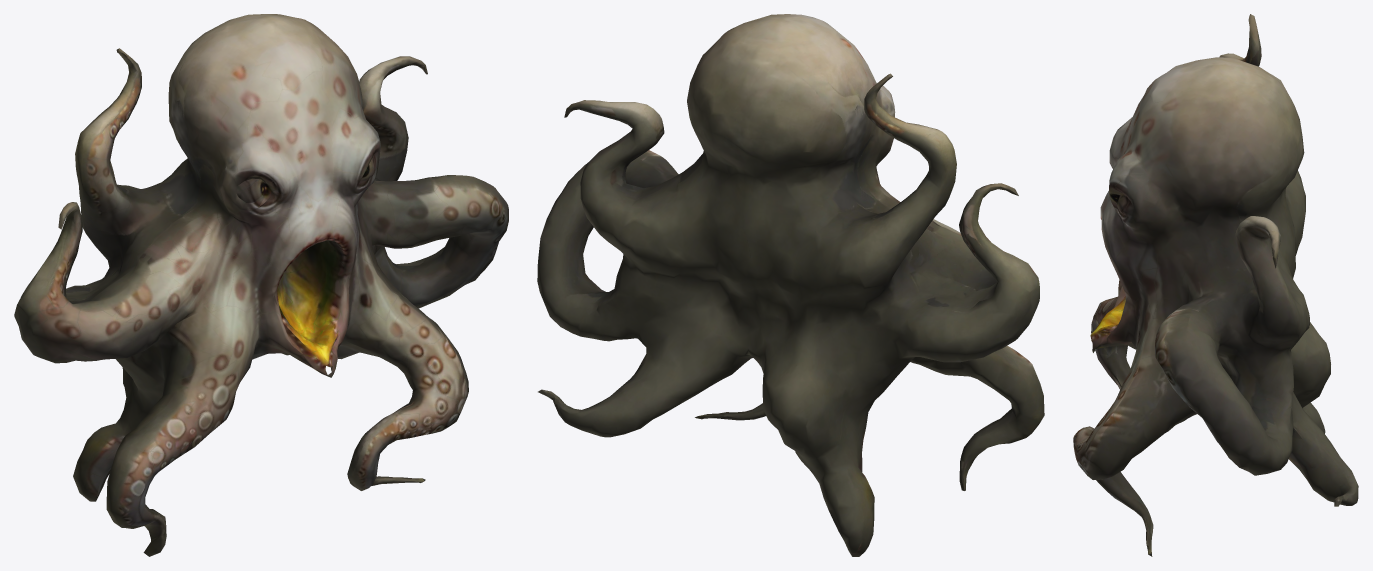
The model's file is monster_50.glb.
3 renders of one model, left to right at view 1: azimuth 30°, elevation 25°; view 2: azimuth 150°, elevation 25°; view 3: azimuth 270°, elevation 25°, orthographic. The views are drawn at different scales.
Parts seen in each view (by area): view 1: Octo_Beast_0710180447_texture; view 2: Octo_Beast_0710180447_texture; view 3: Octo_Beast_0710180447_texture.
Part boxes in pixels (x1=…): Octo_Beast_0710180447_texture: x1=14, y1=14, x2=508, y2=556; Octo_Beast_0710180447_texture: x1=537, y1=14, x2=1044, y2=556; Octo_Beast_0710180447_texture: x1=1073, y1=14, x2=1358, y2=556.
Size of the model in its own units: 2 by 1.9 by 1.08.
Materials: 1 (1 with a texture image).
